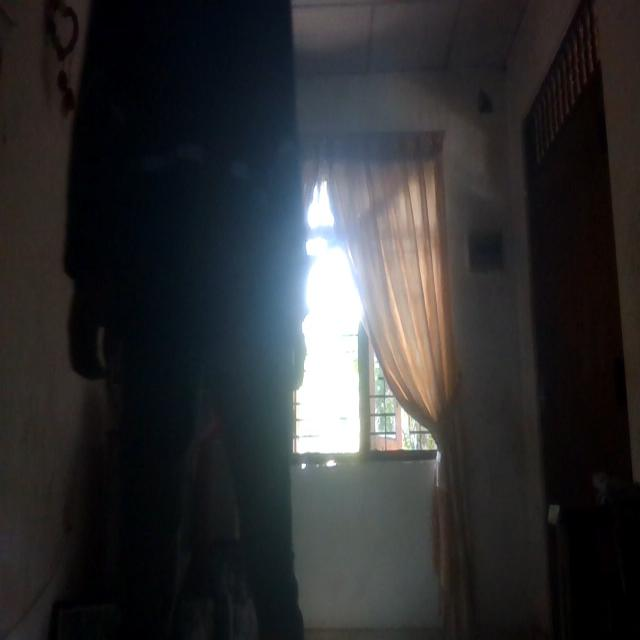Jacket_Wearer: (68, 0, 307, 365)
Person: (77, 0, 306, 637)
